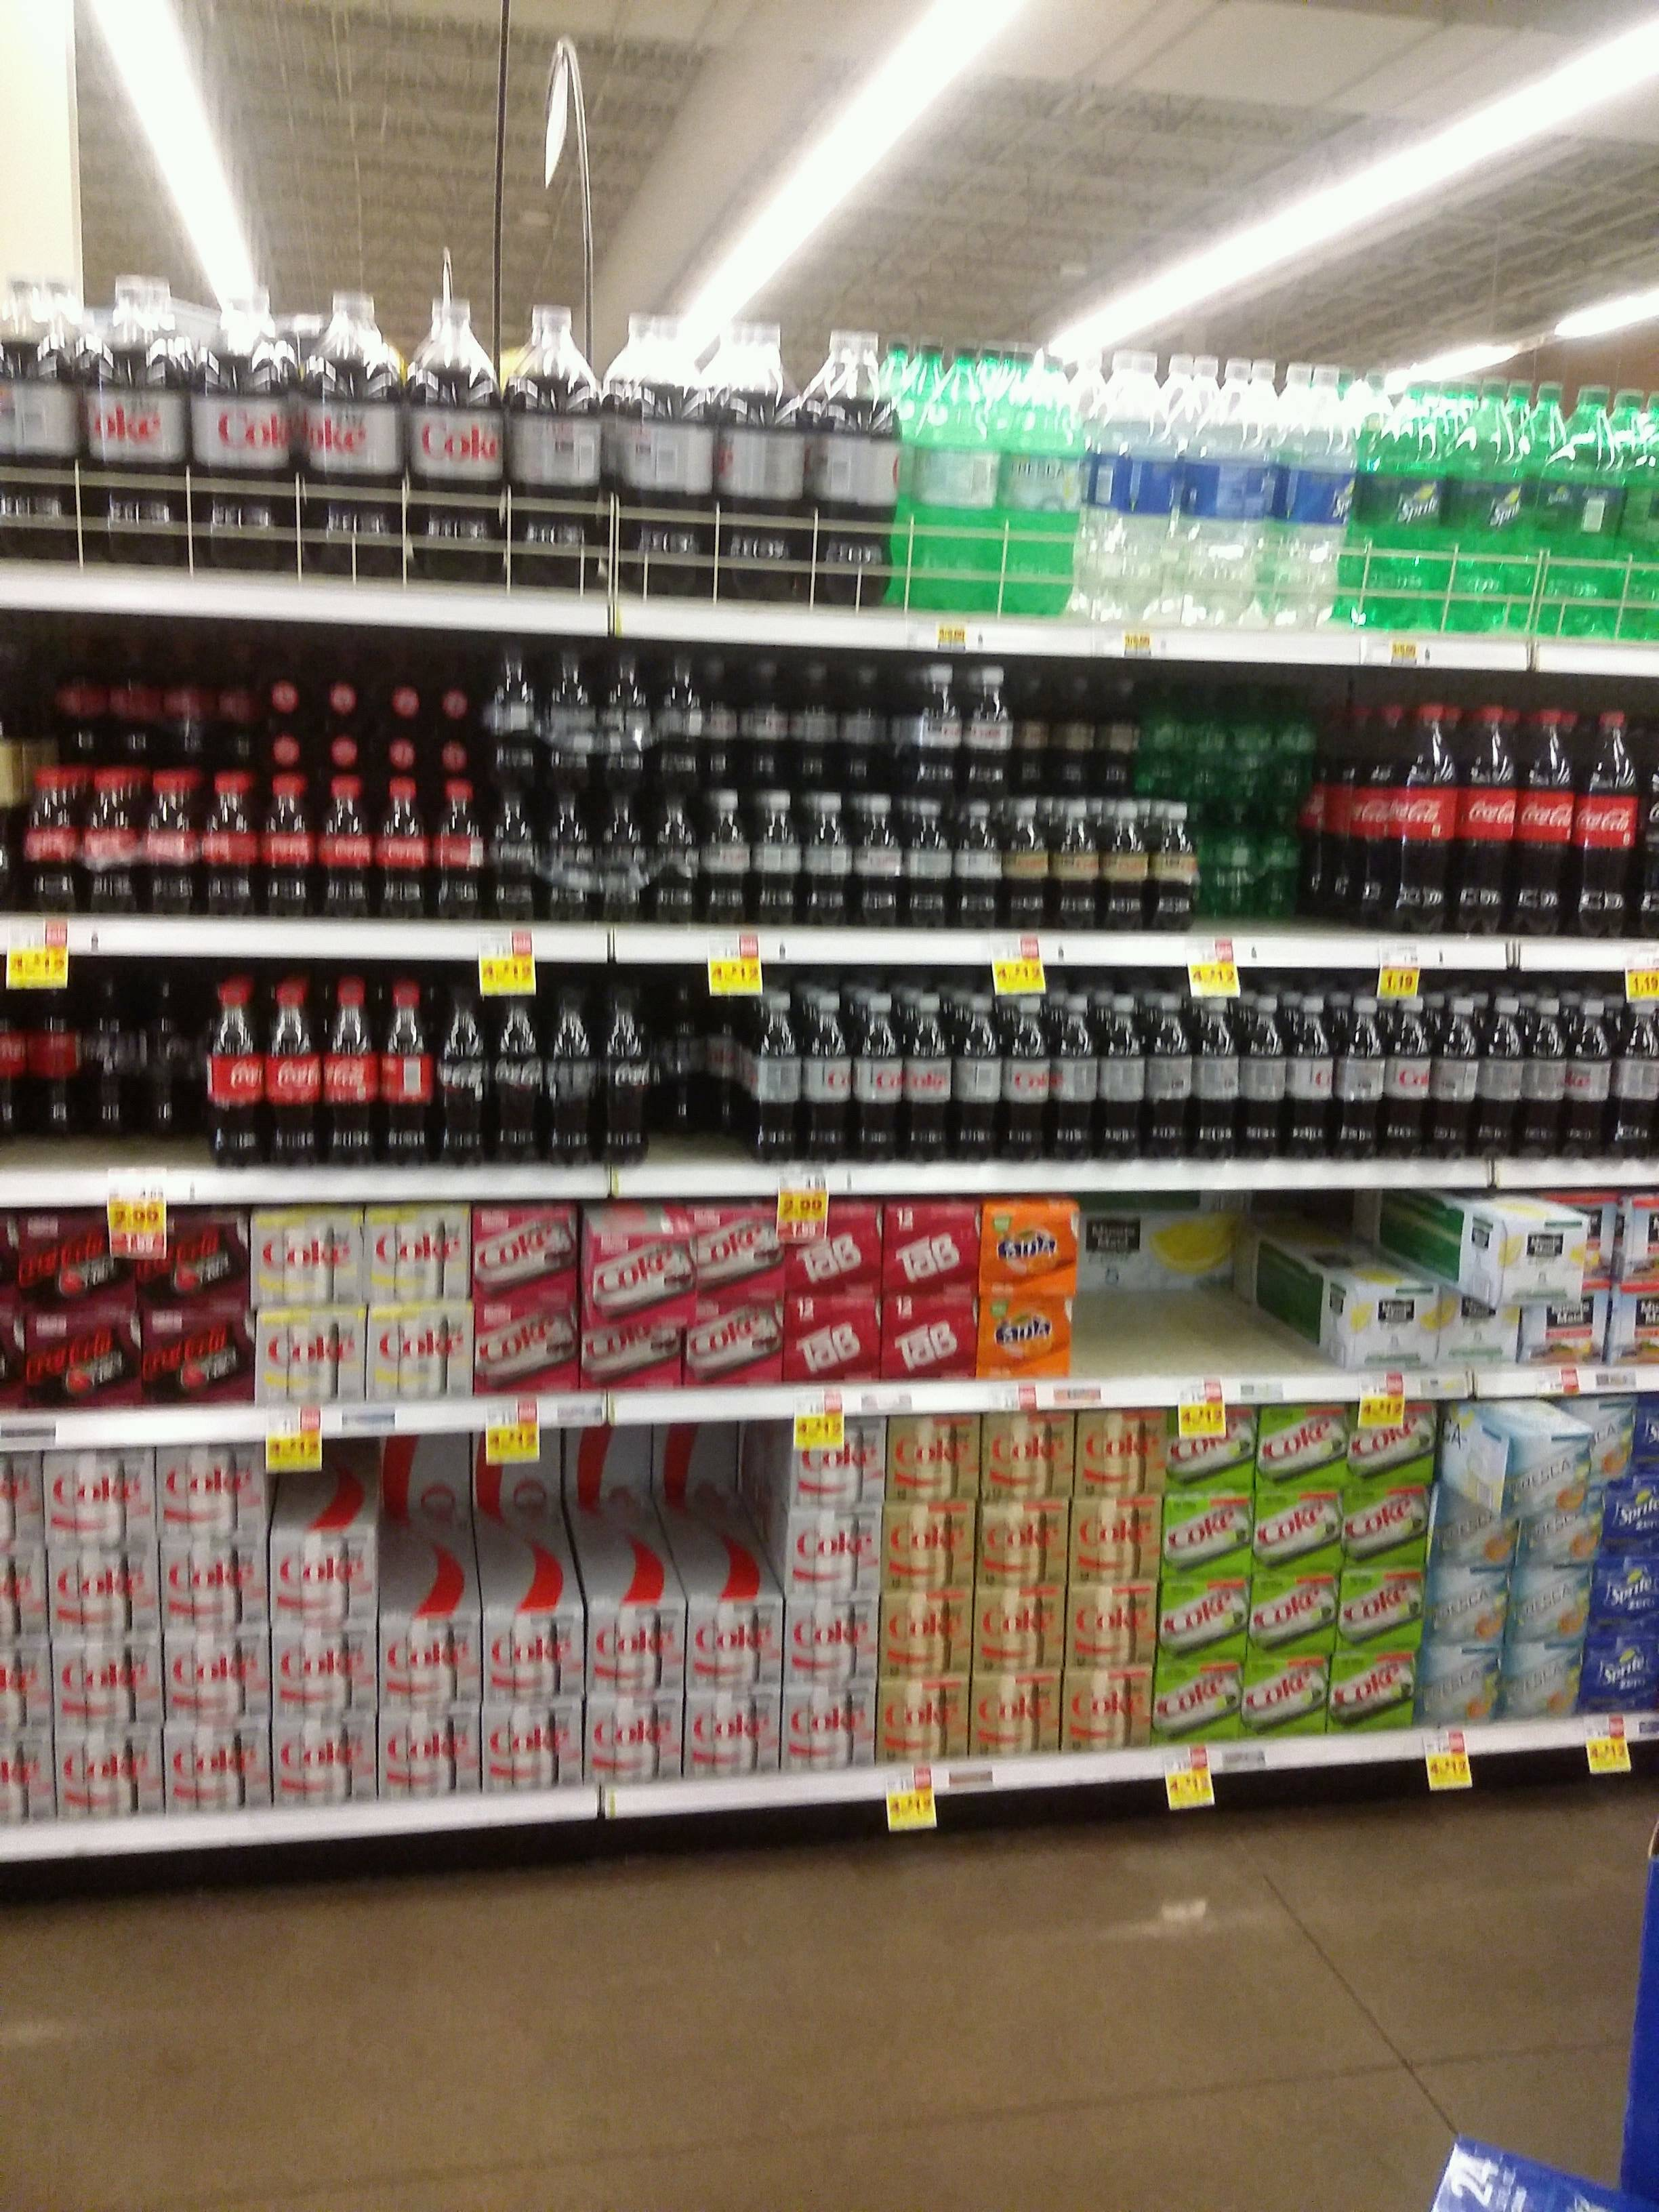Misplacement: (643, 968, 756, 1160)
